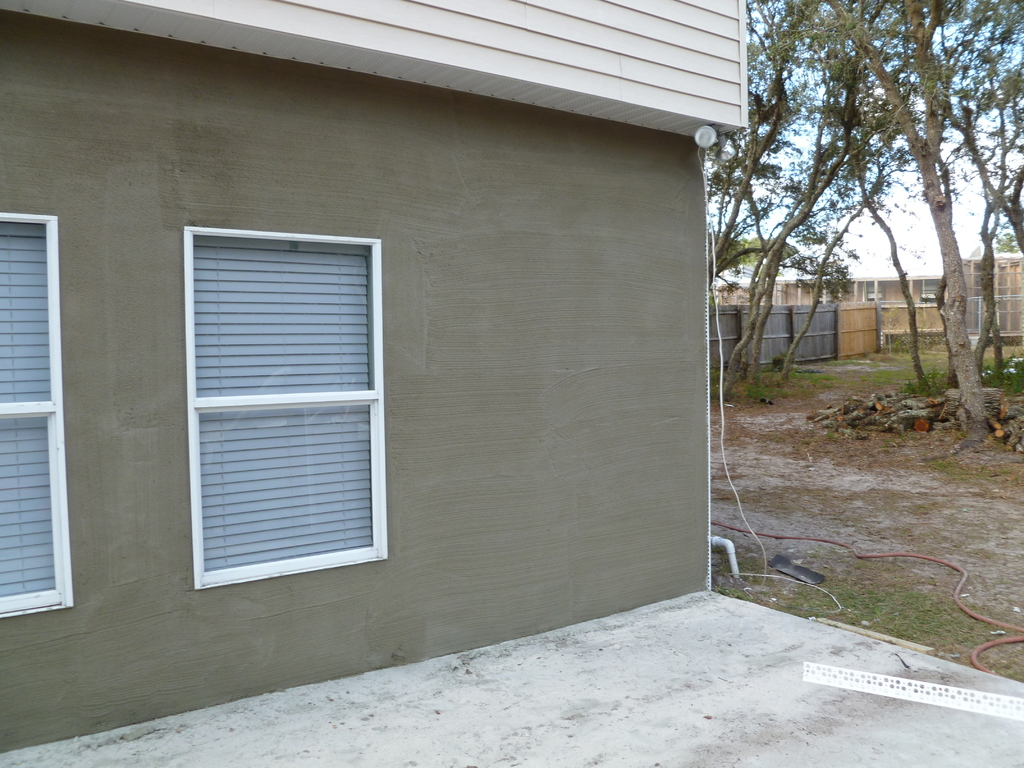Tree: (704, 0, 1024, 464)
